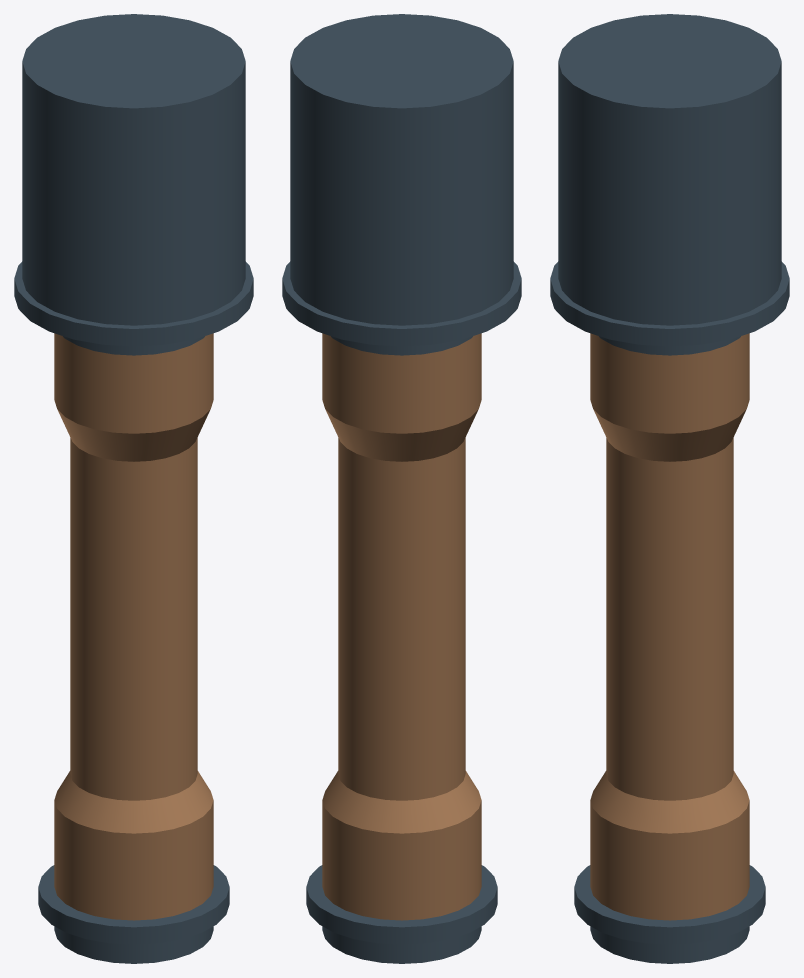
Rendered from grenadeVintage.obj.
The picture shows the model from 3 angles, left to right: view 1: azimuth 30°, elevation 25°; view 2: azimuth 150°, elevation 25°; view 3: azimuth 270°, elevation 25°; orthographic projection.
Parts seen in each view (by area): view 1: grenadeVintage; view 2: grenadeVintage; view 3: grenadeVintage.
Boxes of the visible parts, <box> form: grenadeVintage: <box>14,14,253,963</box>; grenadeVintage: <box>282,14,521,963</box>; grenadeVintage: <box>550,14,789,963</box>.
Bounding box in the file's own units: 0.0956 × 0.3828 × 0.0956.
